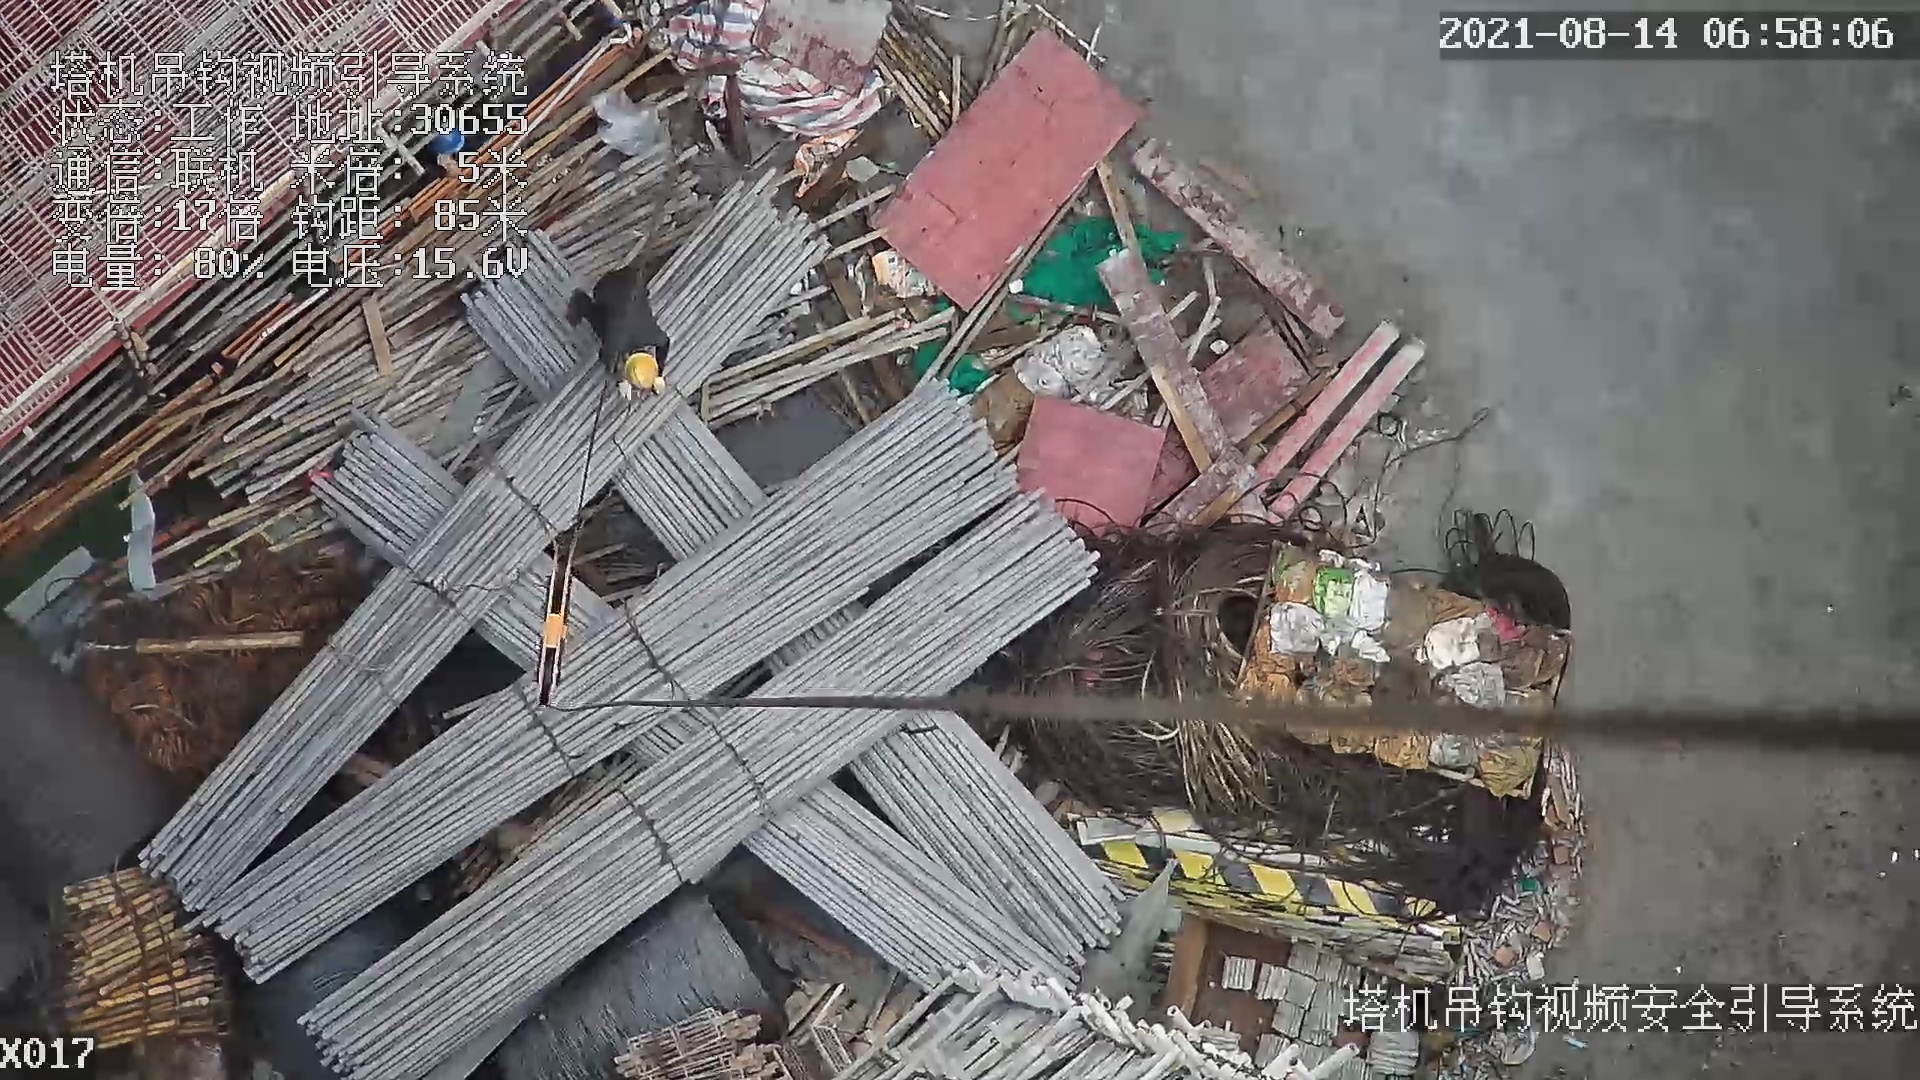helmet: (623, 352, 657, 390)
hook: (510, 528, 578, 721)
person: (564, 273, 674, 414)
rebar: (136, 179, 828, 911), (204, 383, 1017, 983), (295, 493, 1098, 1080), (743, 783, 1089, 992), (848, 711, 1124, 958)
scaffold: (59, 869, 227, 1053)
